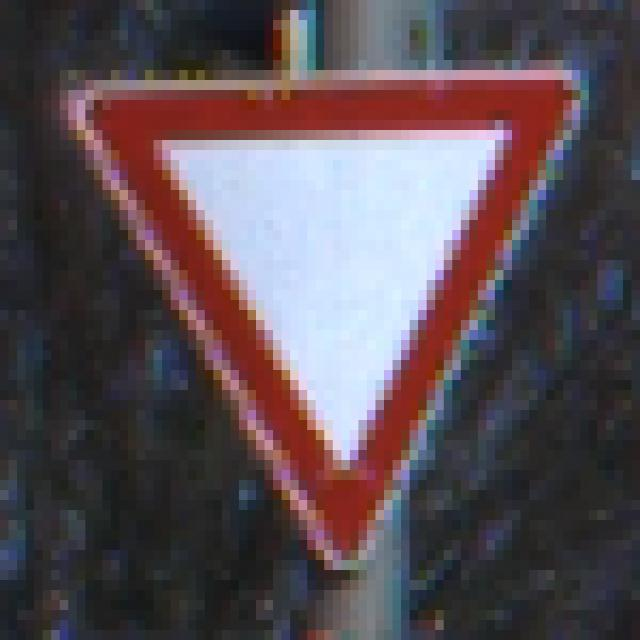give way: (38, 48, 606, 587)
